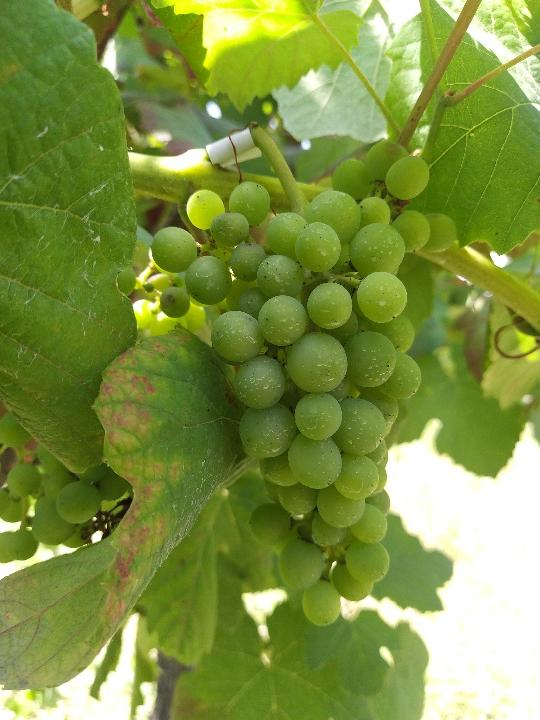grape: (143, 138, 458, 630)
